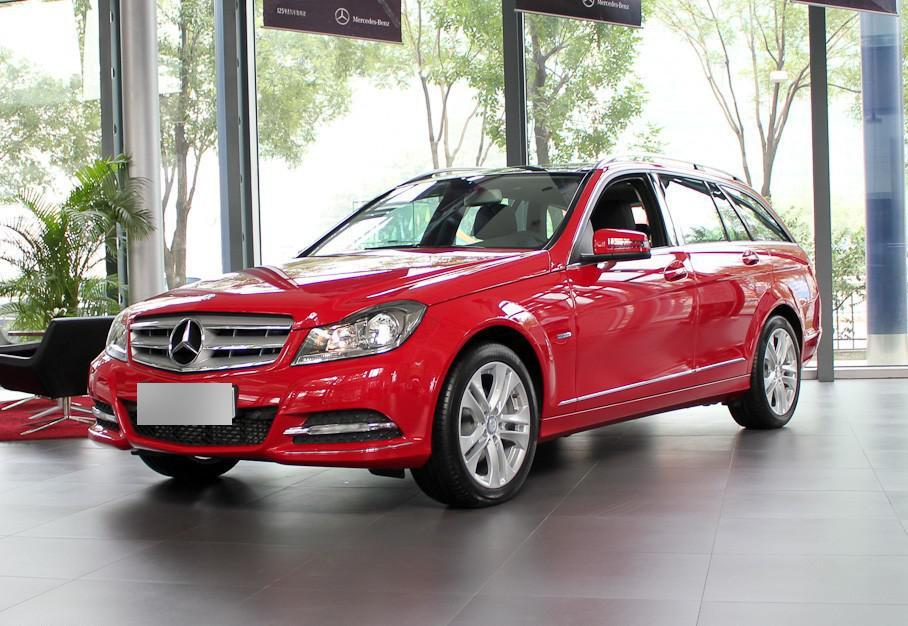Wagon: (84, 152, 821, 508)
